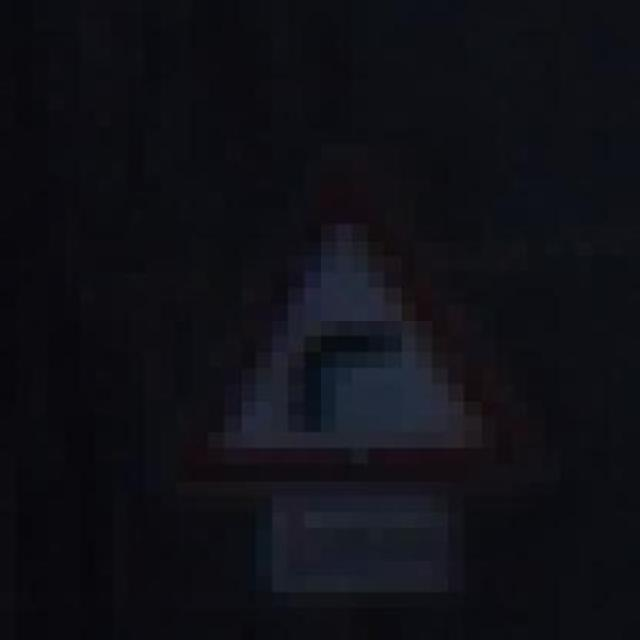Dangerous Rright Curve Ahead: (144, 159, 544, 496)
